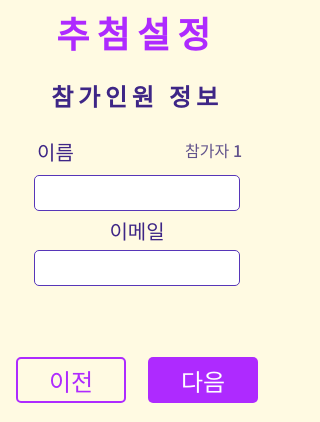
Test case: 경품추첨 모드에서 초기화면에서 다음 버튼을 눌렀을 경우, 올바른 에러메시지 출력하기
The image size is (320, 422).
Click the button "다음" at (203, 380), box [148, 357, 258, 403]
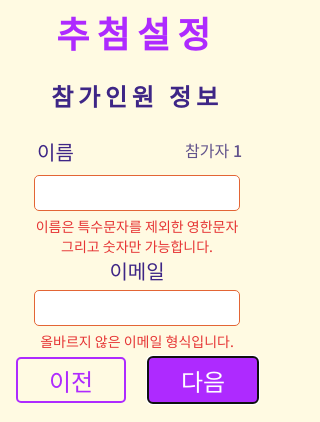
Now the text "이름은 특수문자를 제외한 영한문자 그리고 숫자만 가능합니다." is shown, box [32, 216, 242, 256]
Now the text "올바르지 않은 이메일 형식입니다." is shown, box [32, 331, 242, 349]
